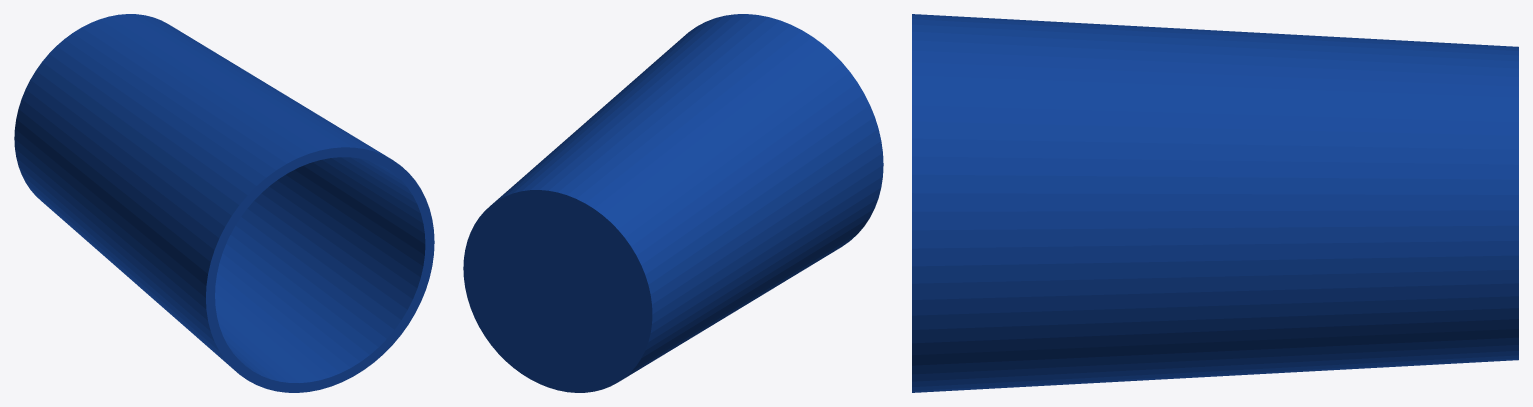
3 views of the same model, side by side, from view 1: azimuth 30°, elevation 25°; view 2: azimuth 150°, elevation 25°; view 3: azimuth 270°, elevation 25° (orthographic). The views are drawn at different scales.
Visible parts, largest first — view 1: cup_blue; view 2: cup_blue; view 3: cup_blue.
Part boxes in pixels (x1,y1,x2,y2): cup_blue: (14, 14, 434, 392); cup_blue: (463, 14, 883, 392); cup_blue: (912, 14, 1518, 392).
Size of the model in its own units: 0.075 by 0.075 by 0.12.
